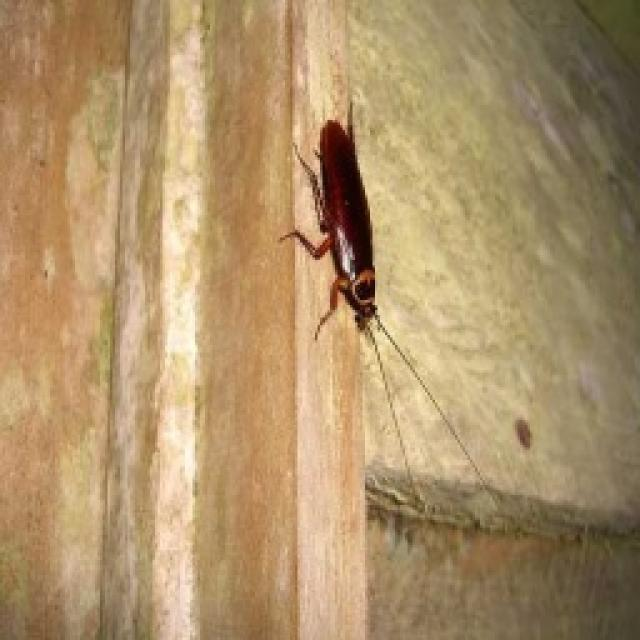cockroach: (277, 101, 508, 514)
